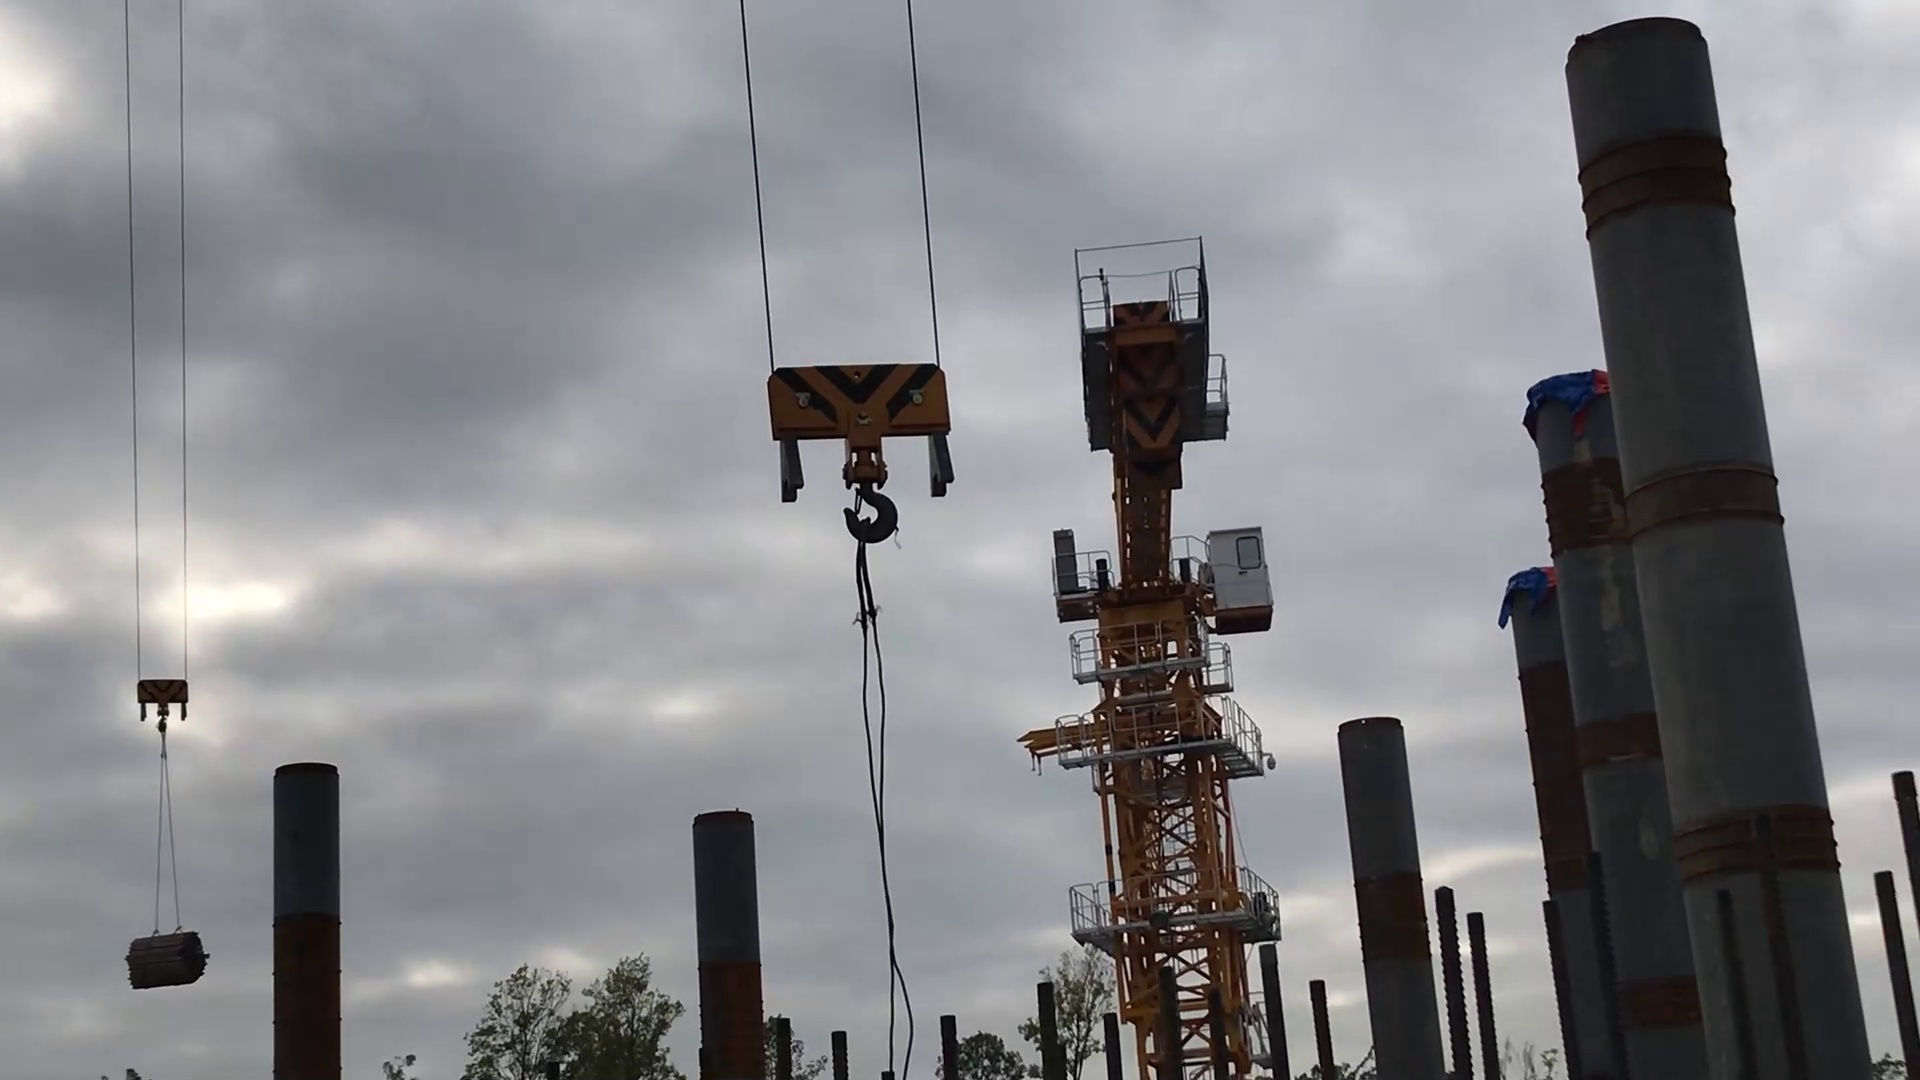hook: (762, 355, 963, 550), (133, 674, 193, 728)
